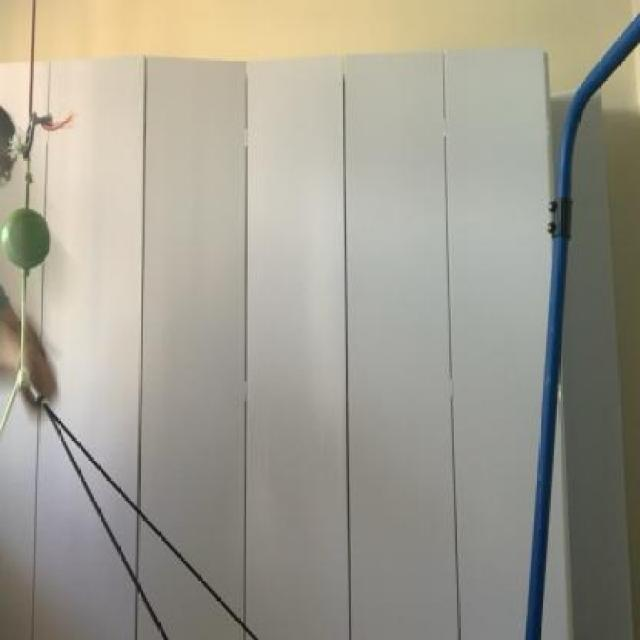baseball: (0, 199, 57, 276)
